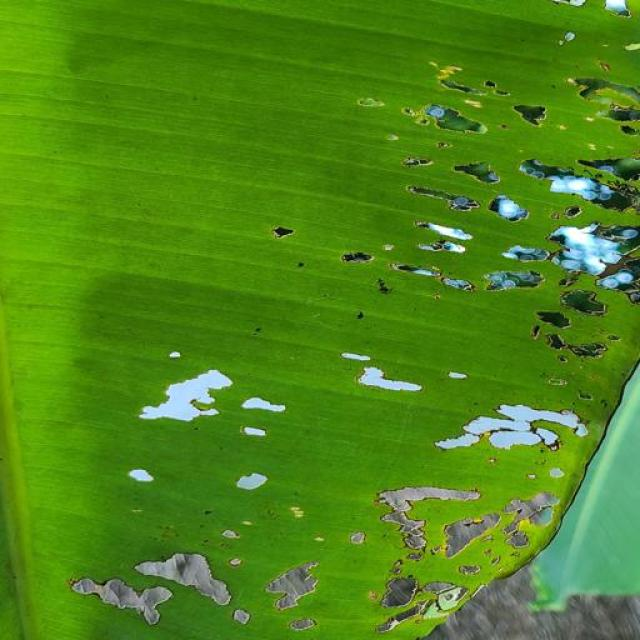Black_rot: (41, 332, 640, 640), (264, 0, 640, 362)
